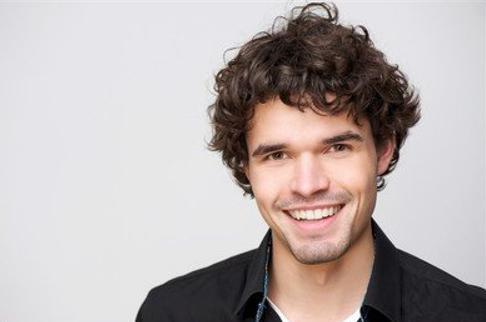Sober: (248, 103, 371, 248)
